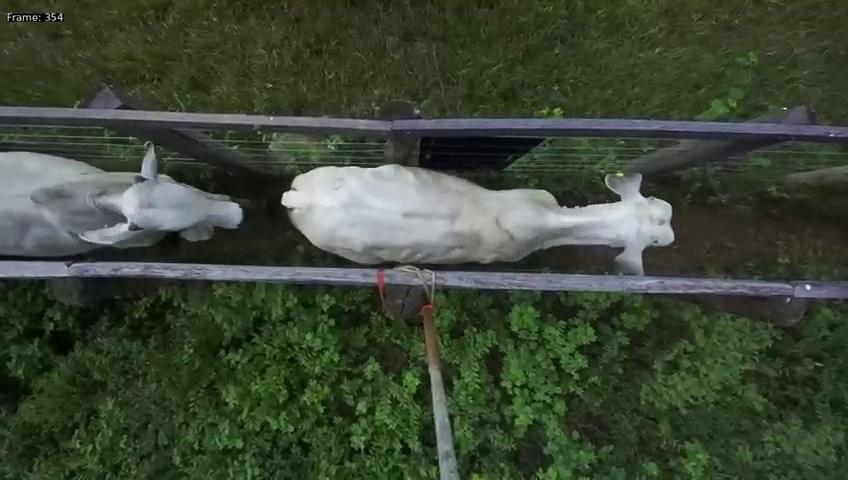cattle: (277, 130, 677, 277), (1, 137, 245, 259)
